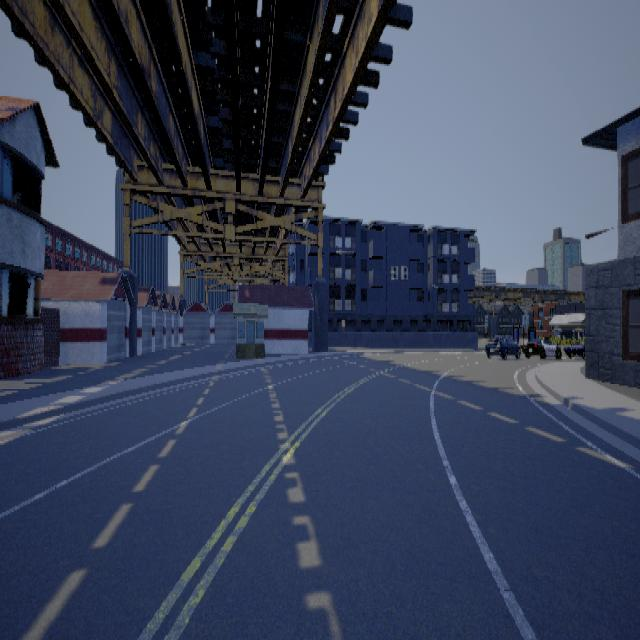vehicle: (521, 335, 561, 359), (484, 333, 520, 359)
